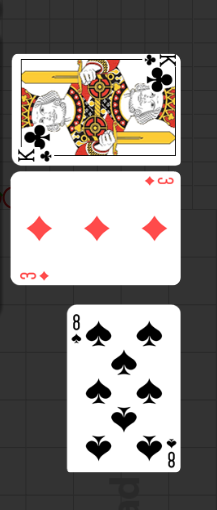8S: (69, 313, 82, 347), (164, 437, 176, 470)
